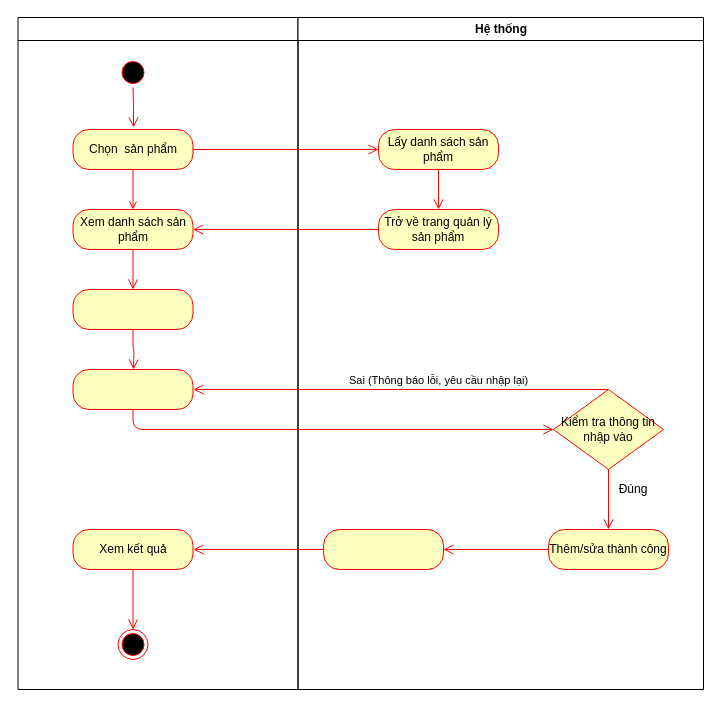
This 721x707 diagram has some shape labels left out. Here are the shapes that lost their labels. From the top down, the box of each, then its label:
(72, 288, 193, 330): Chọn thêm hoặc sửa
(17, 16, 298, 690): Admin
(72, 368, 193, 410): Nhập thông tin
(322, 528, 444, 570): Trở về trang quản lý
